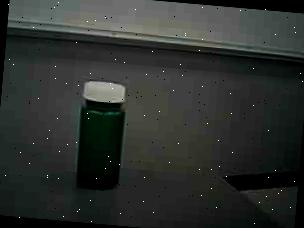Bottle C: (63, 74, 148, 200)
